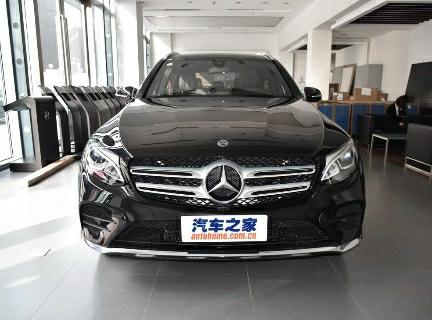car: (49, 45, 381, 270)
